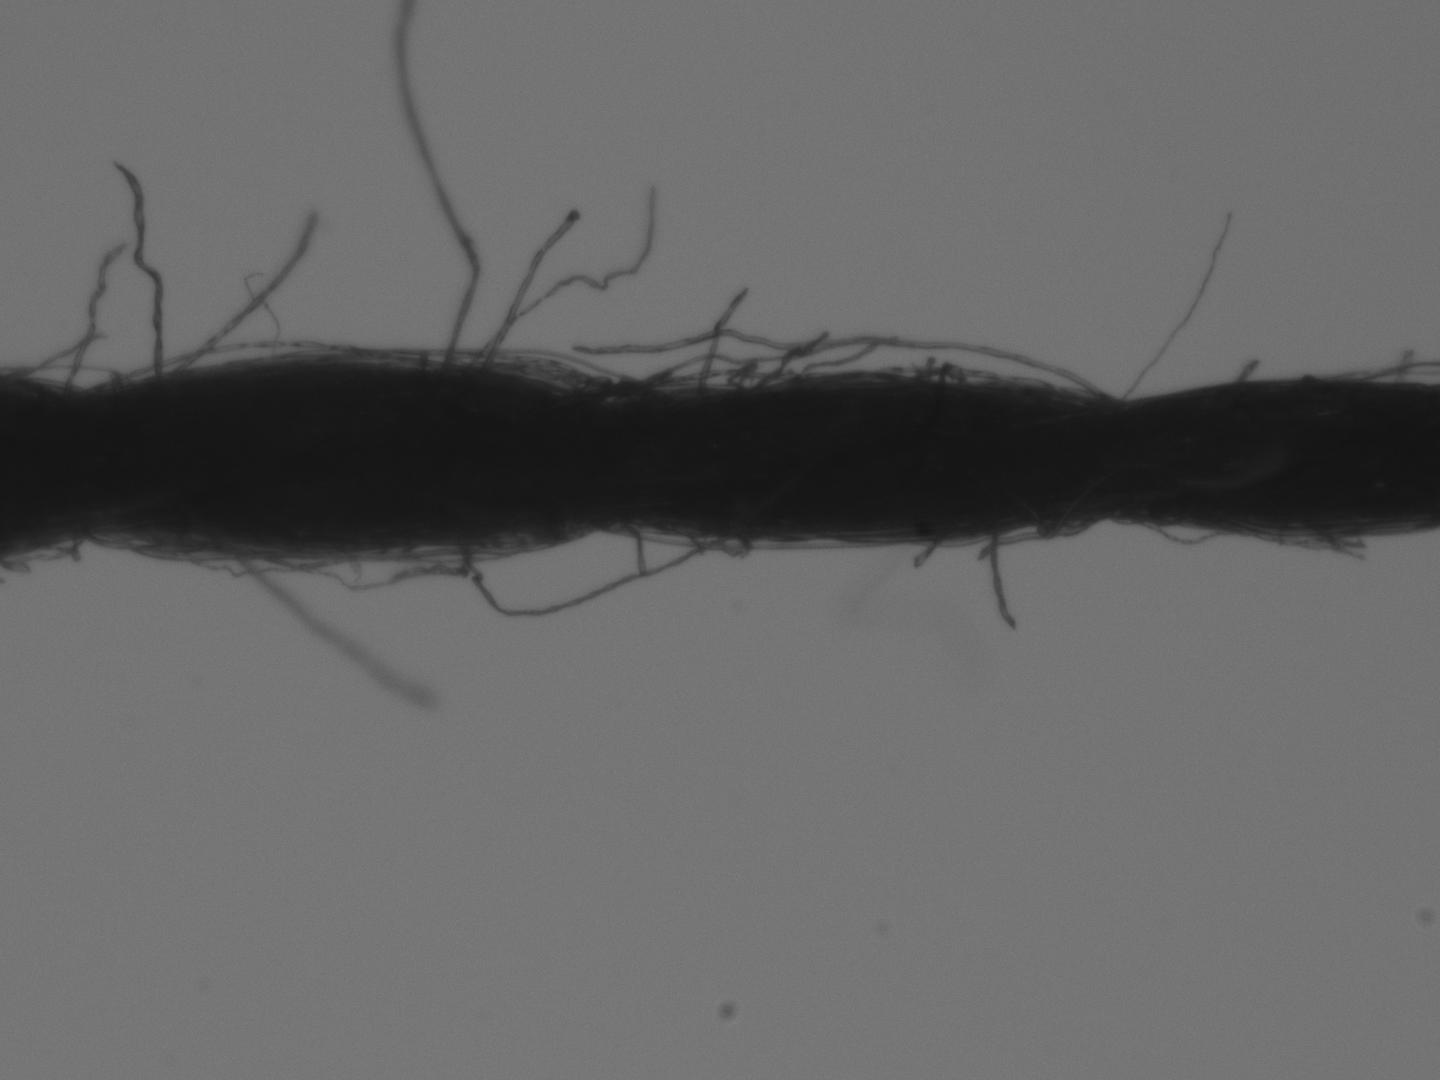loop_fiber: (330, 345, 618, 391), (120, 338, 348, 381), (65, 251, 122, 390), (570, 377, 670, 412), (660, 369, 797, 391), (1247, 522, 1362, 548), (3, 537, 81, 572), (1137, 521, 1236, 548), (15, 365, 115, 391), (687, 529, 745, 557), (903, 368, 959, 388)
protruding_fiber: (577, 326, 1112, 398), (393, 6, 485, 372), (170, 209, 320, 380), (482, 211, 579, 366), (116, 155, 164, 377), (984, 535, 1014, 633)
